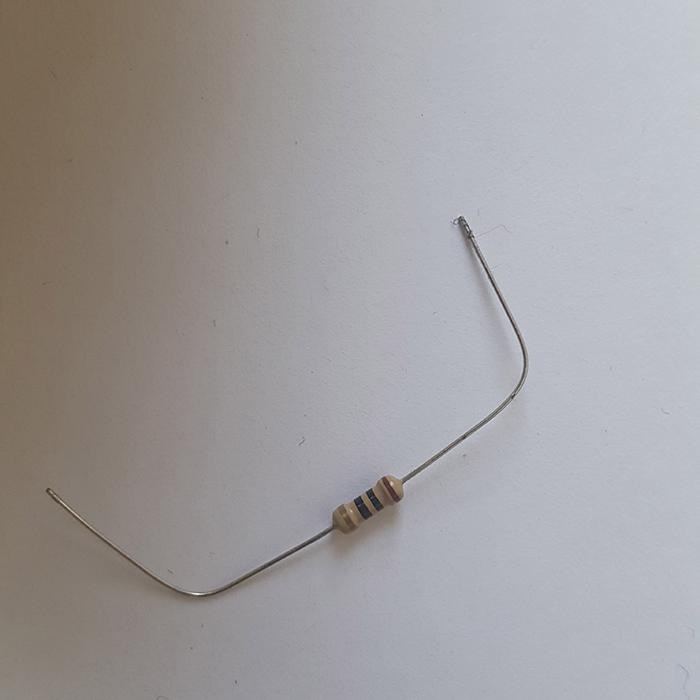resistor: (332, 472, 404, 534)
